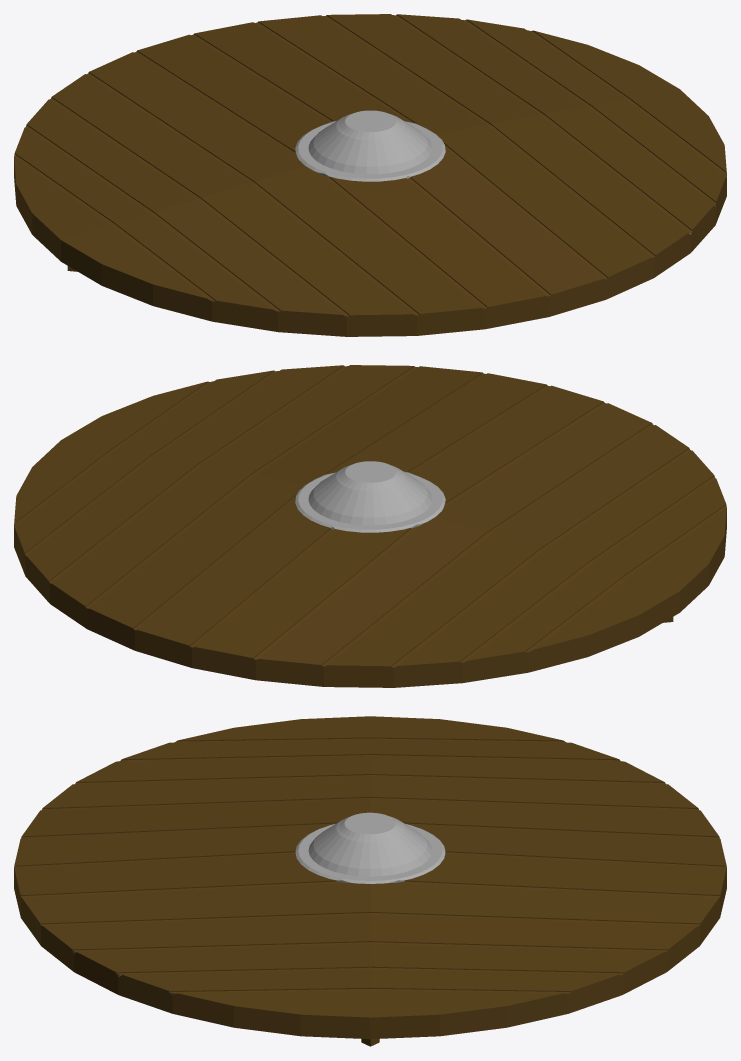
File: Shield.fbx
The picture shows the model from 3 angles, top to bottom: view 1: azimuth 30°, elevation 25°; view 2: azimuth 150°, elevation 25°; view 3: azimuth 270°, elevation 25°; orthographic projection.
Parts seen in each view (by area): view 1: Shield; view 2: Shield; view 3: Shield.
Boxes of the visible parts, box(x1,y1,x2,y2) form: Shield: box(14, 14, 726, 336); Shield: box(14, 365, 726, 687); Shield: box(14, 716, 726, 1046).
Bounding box in the file's own units: 81.69 × 10.01 × 81.69.
